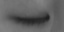LeftEyeFatigue: (4, 8, 52, 32)
